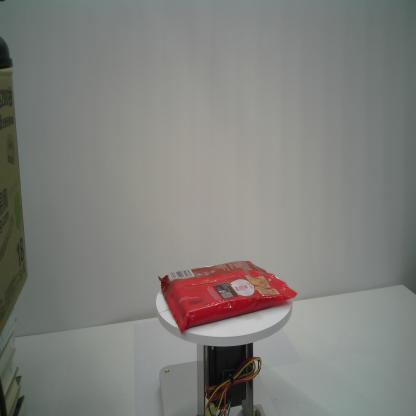Dessert: (158, 260, 299, 335)
